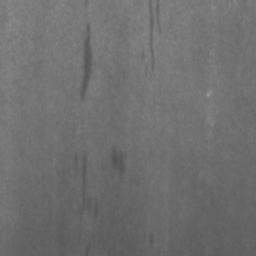Inclusion: (81, 28, 93, 100), (111, 148, 127, 173)
